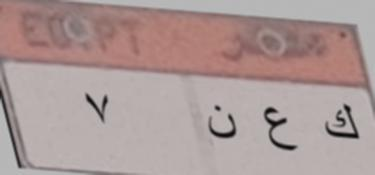7: (76, 82, 114, 130)
ain: (260, 101, 303, 161)
kaaf: (318, 94, 362, 151)
noon: (197, 100, 238, 146)
